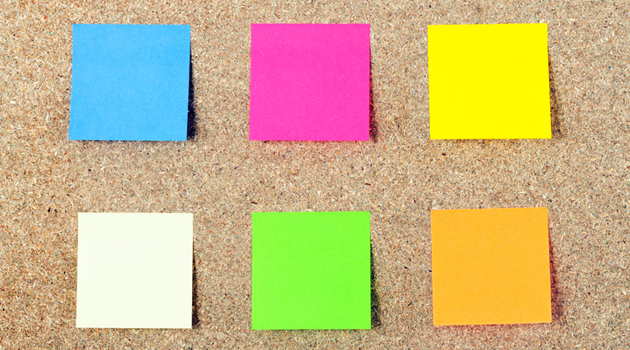stickynote: (60, 18, 195, 145), (422, 22, 561, 144), (430, 202, 555, 334), (244, 20, 375, 145), (248, 209, 375, 332), (74, 209, 197, 330)
